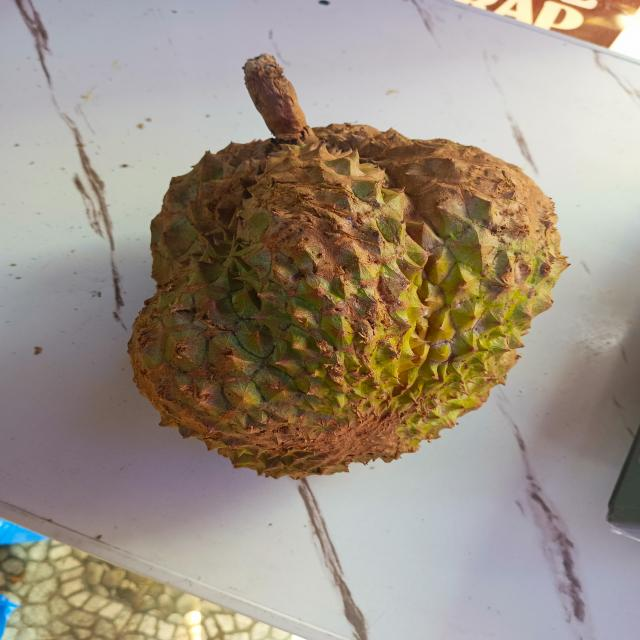mature: (130, 123, 568, 479)
